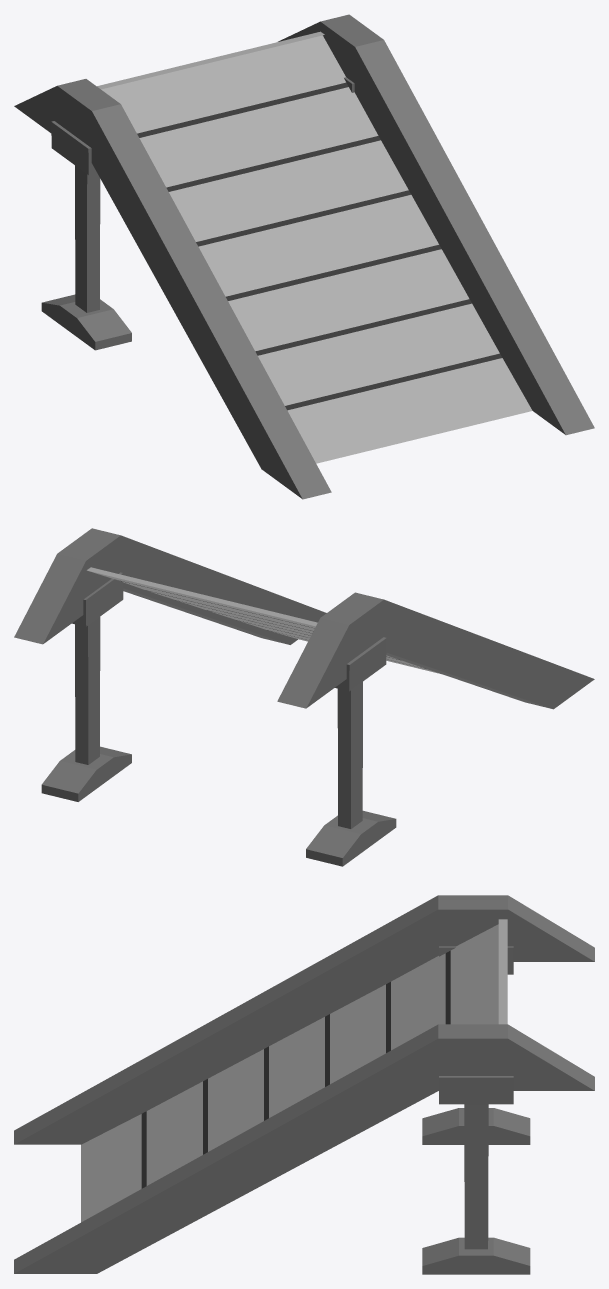
Rendered from ramp.glb.
3 renders of one model, top to bottom at view 1: azimuth 30°, elevation 25°; view 2: azimuth 150°, elevation 25°; view 3: azimuth 270°, elevation 25°, orthographic.
Parts seen in each view (by area): view 1: Ramp; view 2: Ramp; view 3: Ramp.
Boxes of the visible parts, x1,y1,x2,y2 form: Ramp: [14, 14, 594, 499]; Ramp: [14, 528, 594, 866]; Ramp: [14, 895, 594, 1274].
Bounding box in the file's own units: 1.87 × 1.39 × 3.11.
1 material, 1 textured.
